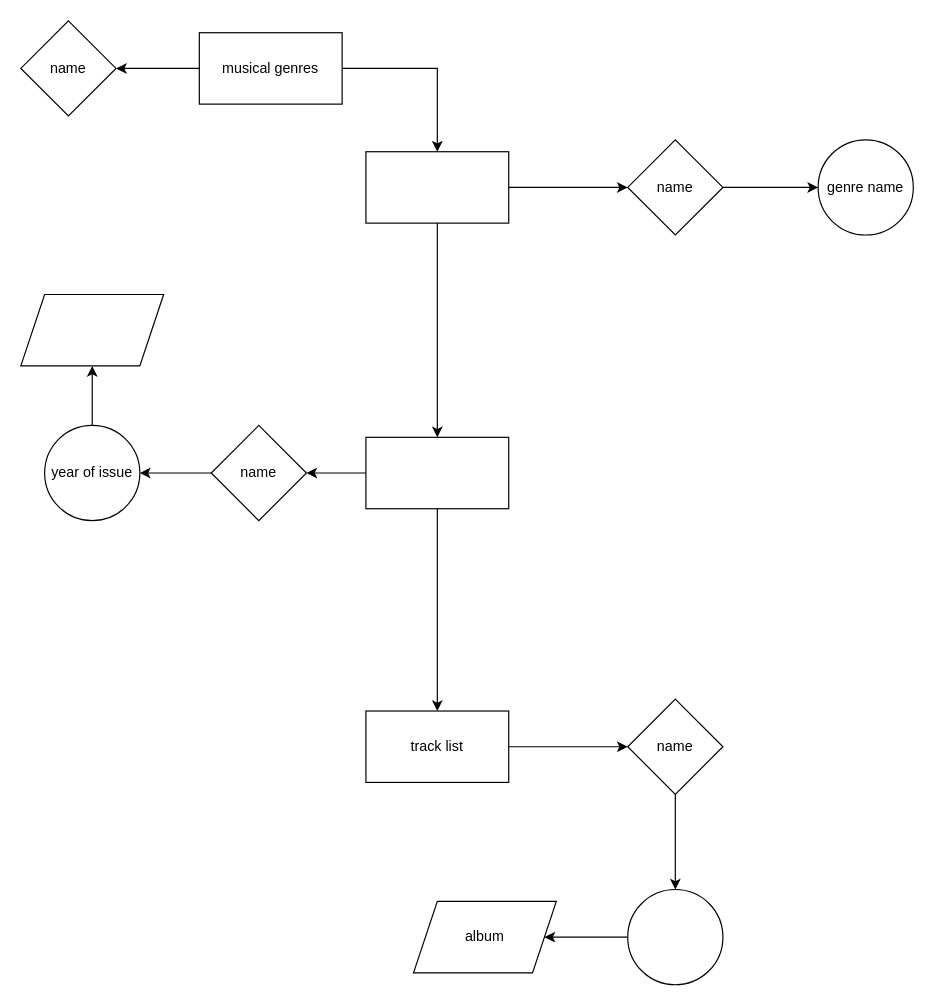
Image size: 934x1006. Some labels were removed from this diagram. The box of each missing label's shape, as (x1, y1, x2, y2) in pixels:
album list: (365, 436, 509, 509)
executor: (20, 293, 164, 366)
list of performers: (365, 151, 509, 223)
track duration: (627, 888, 723, 985)
